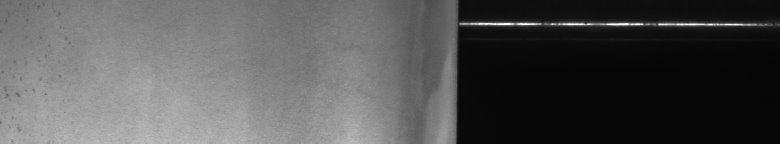ib: (5, 4, 61, 132)
